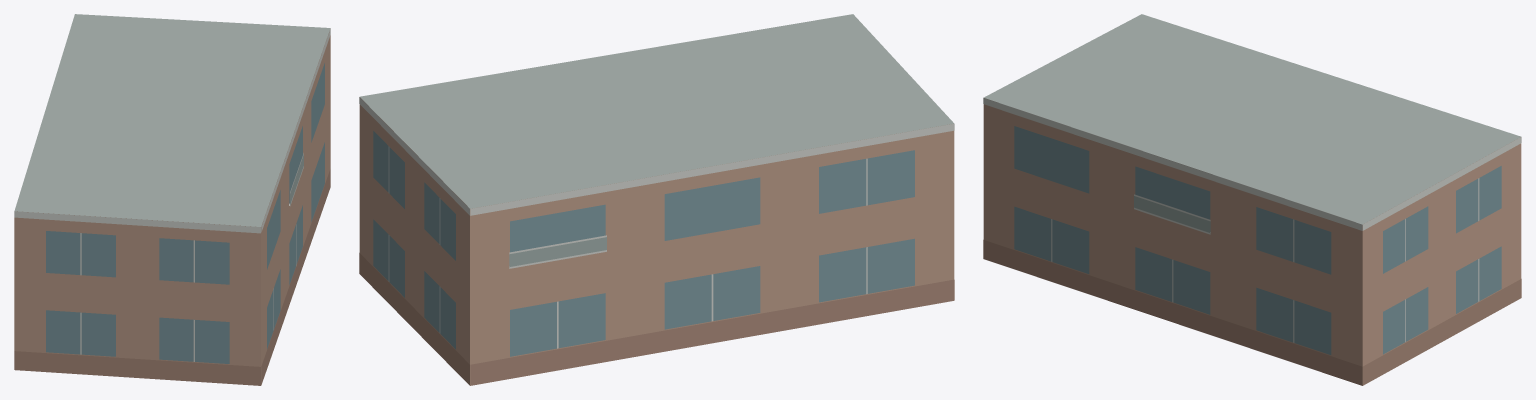
The model's file is survey-upis-32888591.glb.
The picture shows the model from 3 angles, left to right: view 1: azimuth 30°, elevation 25°; view 2: azimuth 150°, elevation 25°; view 3: azimuth 270°, elevation 25°; orthographic projection. The views are drawn at different scales.
Visible parts, largest first — view 1: survey-upis-32888591.tmp; view 2: survey-upis-32888591.tmp; view 3: survey-upis-32888591.tmp.
Part boxes in pixels (<box>): survey-upis-32888591.tmp: <box>14,14,330,385</box>; survey-upis-32888591.tmp: <box>359,14,954,385</box>; survey-upis-32888591.tmp: <box>983,14,1521,385</box>.
Size of the model in its own units: 17.09 by 6.1 by 18.45.
